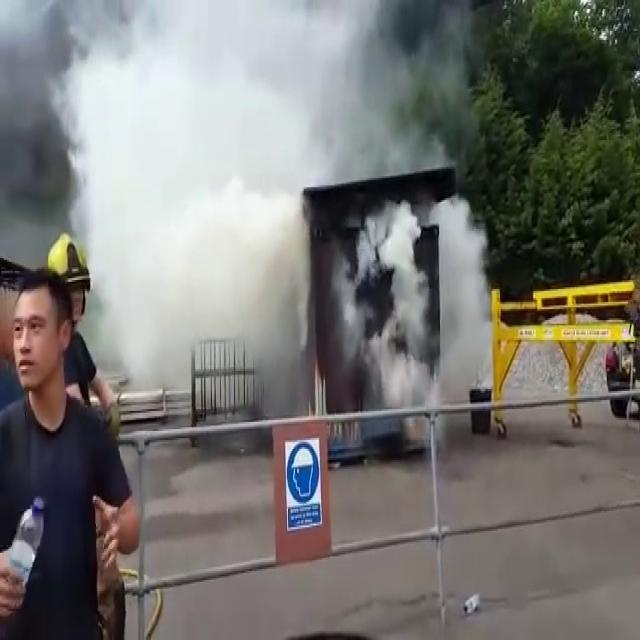Smoke: (102, 0, 293, 355), (434, 191, 494, 410), (315, 42, 397, 176)
